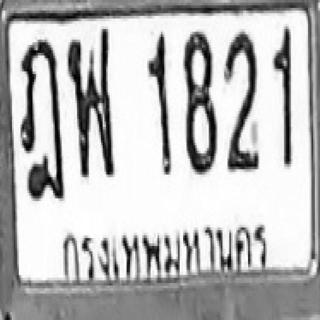A14: (20, 37, 64, 201)
A30: (67, 26, 115, 177)
N01: (146, 32, 170, 175), (272, 26, 292, 169)
N02: (224, 30, 258, 171)
N08: (182, 30, 216, 173)
P04: (57, 215, 272, 288)
